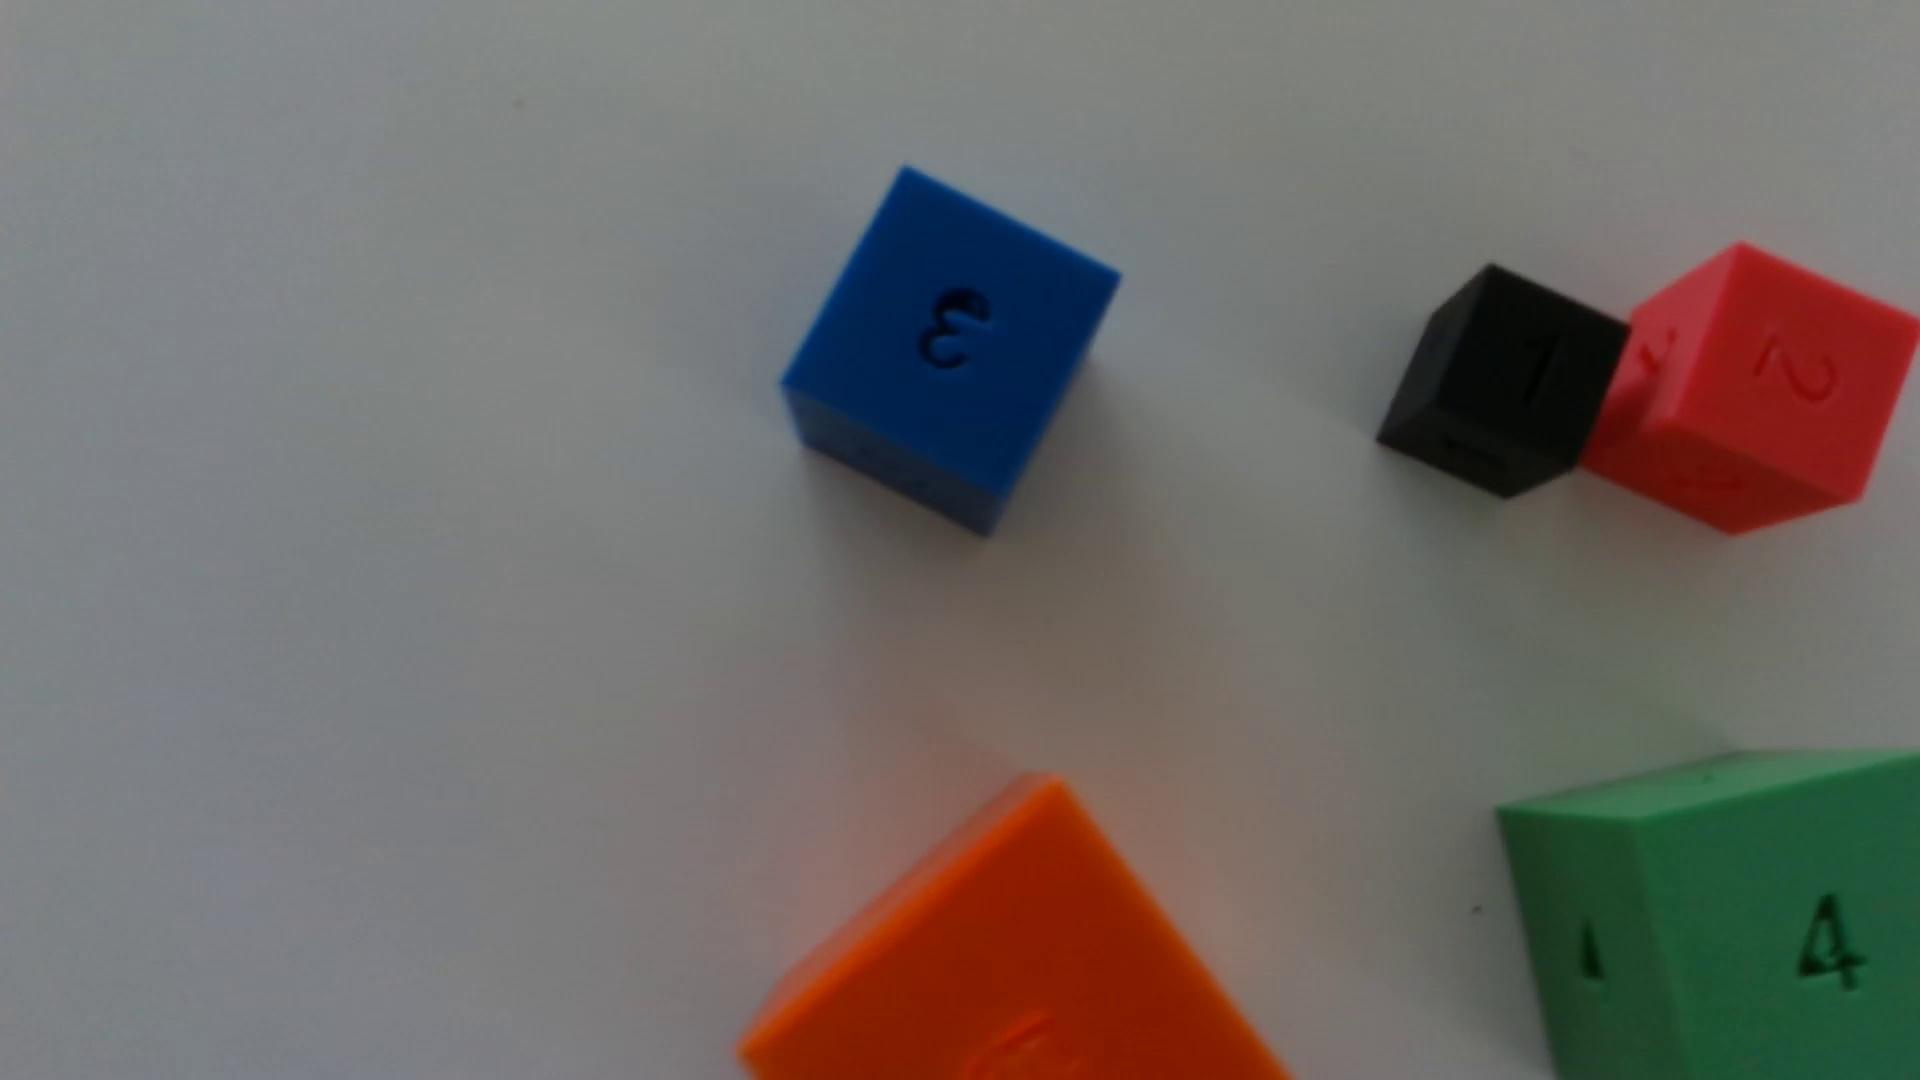black: (1377, 266, 1629, 500)
blue: (782, 169, 1120, 534)
green: (1498, 753, 1920, 1080)
orange: (740, 781, 1287, 1080)
red: (1582, 244, 1920, 535)
